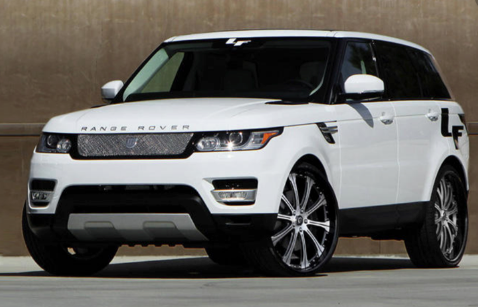car: (18, 27, 471, 279)
